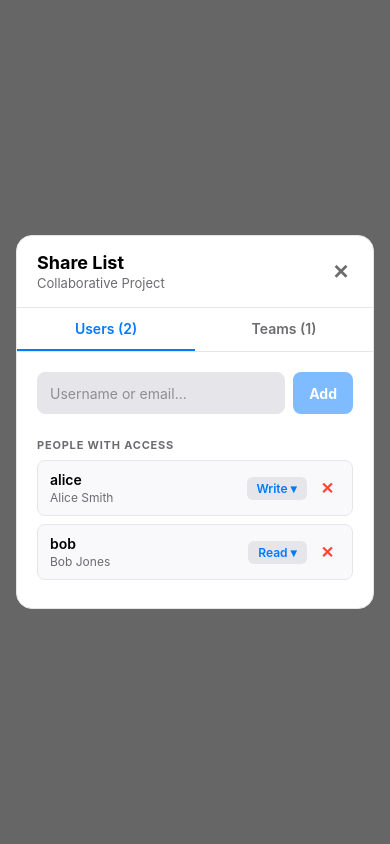
ProjectSharingModal › allows removing a user share
Expected: the text "bob" is shown, [50, 535, 76, 552]
Click the element with test id "share-remove-user-20" at (327, 552), box [321, 542, 334, 562]
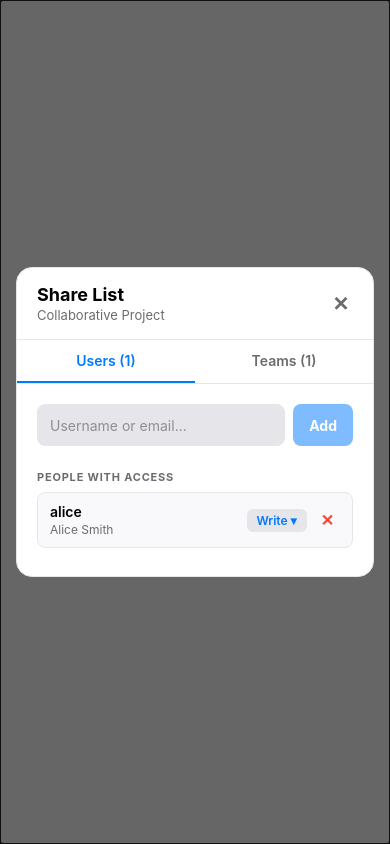
Result: the text "bob" is gone
